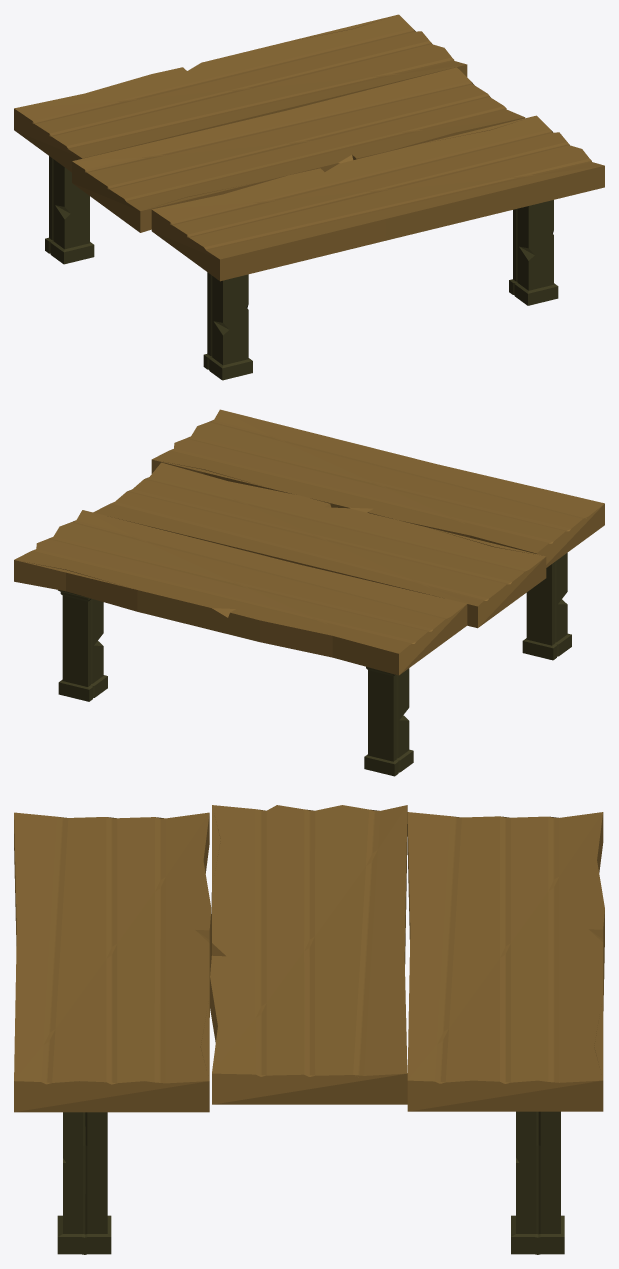
Rendered from table 2.fbx.
3 views of the same model, one above another, from view 1: azimuth 30°, elevation 25°; view 2: azimuth 150°, elevation 25°; view 3: azimuth 270°, elevation 25° (orthographic). The views are drawn at different scales.
Parts seen in each view (by area): view 1: Cube.002, Cube, Cube.001, Cube.003, Cube.004, Cube.005; view 2: Cube.001, Cube, Cube.002, Cube.006, Cube.005, Cube.003; view 3: Cube, Cube.001, Cube.002, Cube.006, Cube.004.
Boxes of the visible parts, left/top/right/bottom form: Cube.002: left=151, top=115, right=604, bottom=281; Cube: left=72, top=67, right=525, bottom=232; Cube.001: left=14, top=14, right=467, bottom=172; Cube.003: left=203, top=272, right=252, bottom=380; Cube.004: left=509, top=200, right=558, bottom=305; Cube.005: left=45, top=156, right=94, bottom=264; Cube.001: left=14, top=510, right=467, bottom=675; Cube: left=93, top=462, right=546, bottom=628; Cube.002: left=151, top=409, right=604, bottom=567; Cube.006: left=58, top=590, right=107, bottom=701; Cube.005: left=364, top=666, right=413, bottom=776; Cube.003: left=522, top=553, right=571, bottom=660; Cube: left=210, top=805, right=407, bottom=1104; Cube.001: left=407, top=812, right=604, bottom=1111; Cube.002: left=14, top=812, right=211, bottom=1112; Cube.006: left=511, top=1111, right=564, bottom=1254; Cube.004: left=57, top=1112, right=111, bottom=1254.
Bounding box in the file's own units: 209 × 69.5 × 190.
